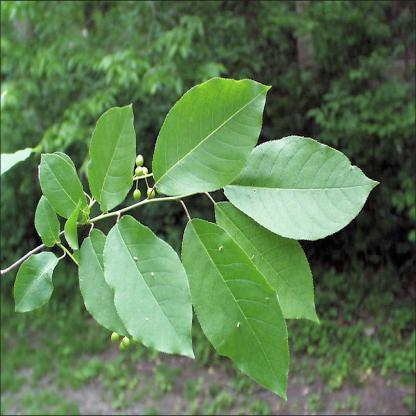Cherry leaf: (177, 214, 320, 408), (224, 137, 380, 240), (152, 74, 274, 202), (107, 218, 205, 374), (72, 222, 134, 361), (85, 100, 144, 216), (37, 142, 99, 228), (8, 247, 67, 322), (29, 194, 69, 254)
